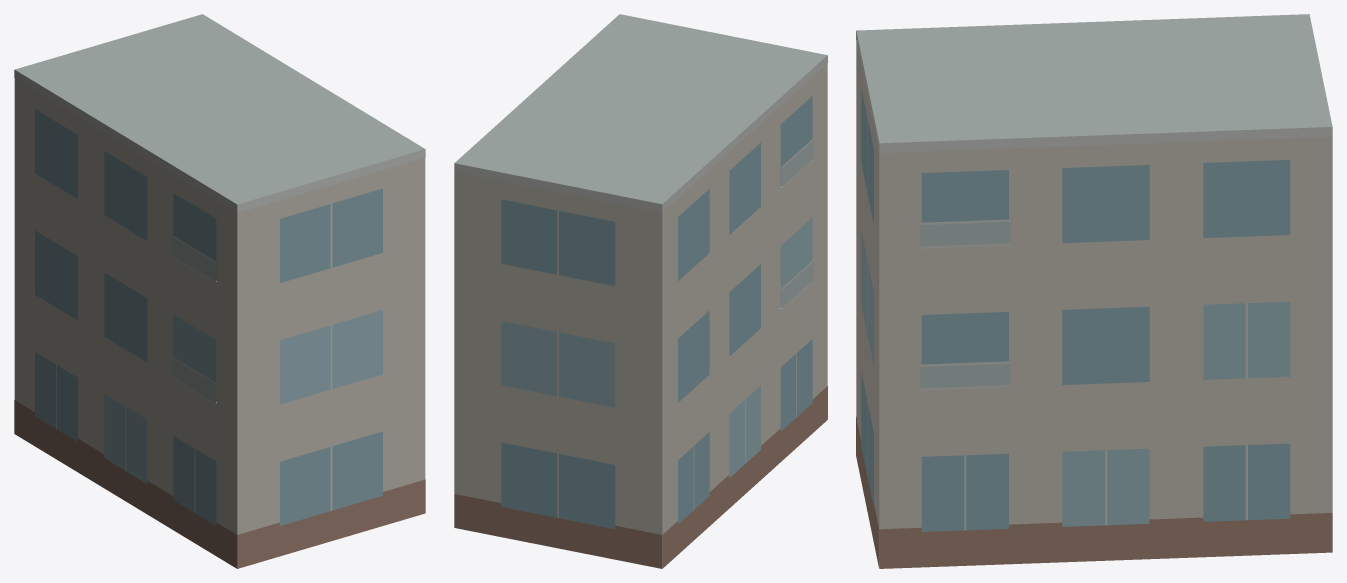
Rendered from survey-upis-32469298.glb.
3 views of the same model, side by side, from view 1: azimuth 30°, elevation 25°; view 2: azimuth 150°, elevation 25°; view 3: azimuth 270°, elevation 25° (orthographic). The views are drawn at different scales.
Parts seen in each view (by area): view 1: survey-upis-32469298.tmp; view 2: survey-upis-32469298.tmp; view 3: survey-upis-32469298.tmp.
Boxes of the visible parts, box(x1,y1,x2,y2) form: survey-upis-32469298.tmp: box(14, 14, 425, 568); survey-upis-32469298.tmp: box(454, 14, 827, 568); survey-upis-32469298.tmp: box(856, 14, 1332, 568).
Bounding box in the file's own units: 6.91 × 10.6 × 10.76.
